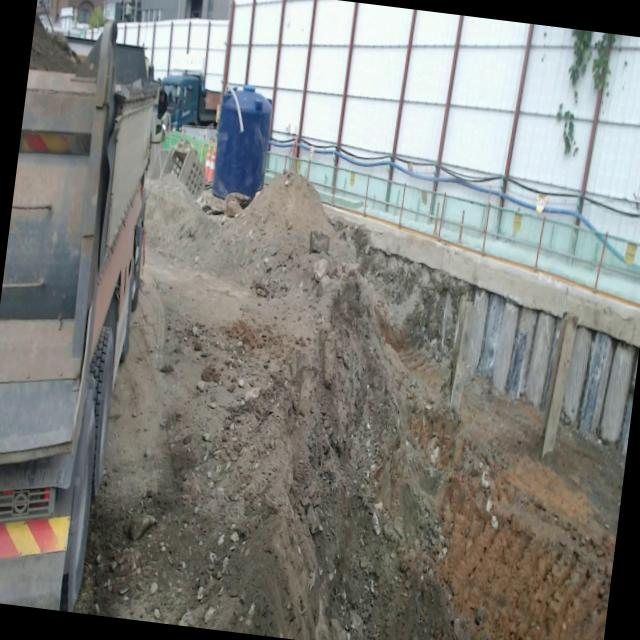red-sand: (76, 174, 626, 640), (29, 12, 81, 73)
